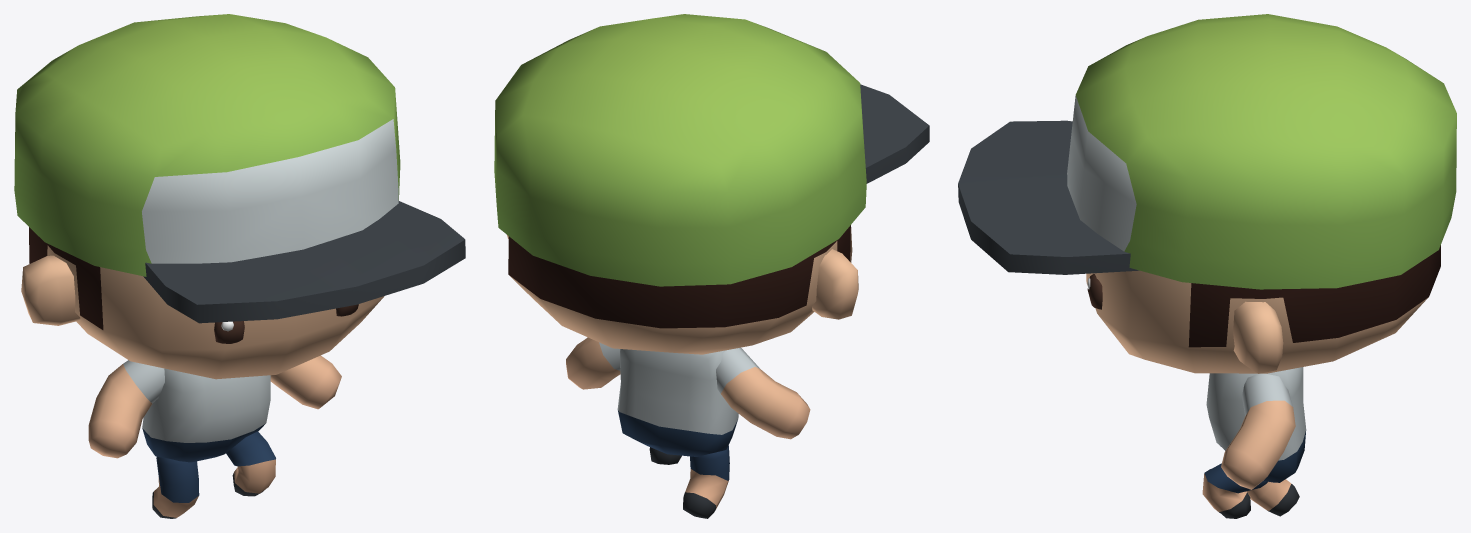
The model's file is run_0015.obj.
3 renders of one model, left to right at view 1: azimuth 30°, elevation 25°; view 2: azimuth 150°, elevation 25°; view 3: azimuth 270°, elevation 25°, orthographic. The views are drawn at different scales.
Parts seen in each view (by area): view 1: Object_41, Object_42, Object_44, Object_36, Object_38; view 2: Object_41, Object_36, Object_44, Object_42; view 3: Object_41, Object_36, Object_42, Object_44.
Boxes of the visible parts, <box> form: Object_41: <box>14,14,400,276</box>; Object_42: <box>142,119,465,323</box>; Object_44: <box>88,355,341,518</box>; Object_36: <box>21,227,384,379</box>; Object_38: <box>214,304,358,343</box>; Object_41: <box>494,14,866,286</box>; Object_36: <box>507,225,858,354</box>; Object_44: <box>566,337,810,518</box>; Object_42: <box>860,84,929,183</box>; Object_41: <box>1075,14,1456,289</box>; Object_36: <box>1086,245,1440,373</box>; Object_42: <box>958,96,1138,274</box>; Object_44: <box>1202,367,1306,518</box>.
Size of the model in its own units: 0.9691 by 1.21 by 1.13.
